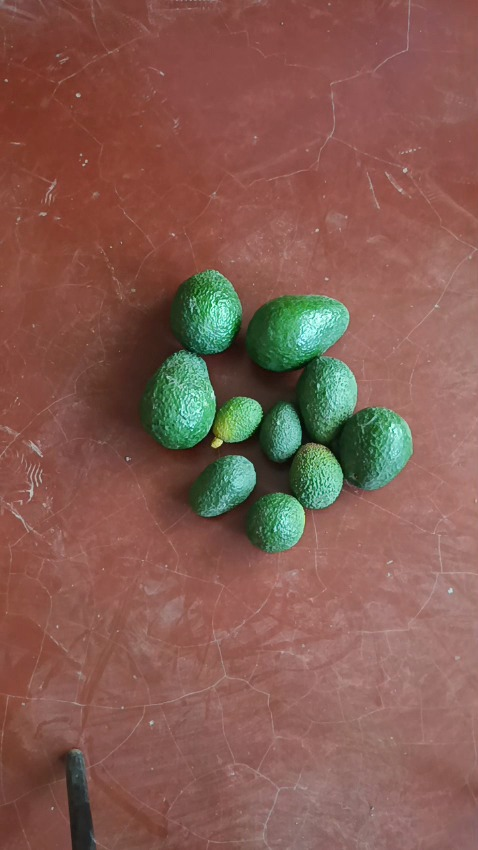Primera: (246, 295, 351, 370), (137, 349, 216, 448), (169, 270, 242, 355)
Segunda: (335, 407, 413, 490), (295, 355, 358, 444)
Tercera: (187, 453, 257, 517), (244, 490, 306, 551), (288, 442, 344, 508), (257, 401, 301, 462), (211, 396, 262, 444)
